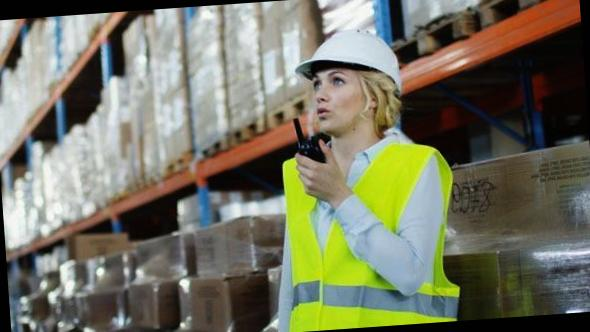helmet: (292, 23, 406, 99)
person: (243, 17, 468, 332)
